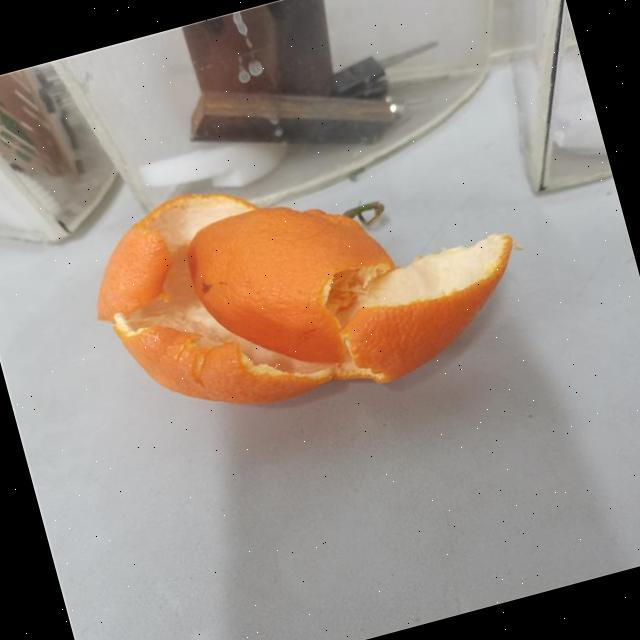orange-peel: (71, 112, 541, 451)
